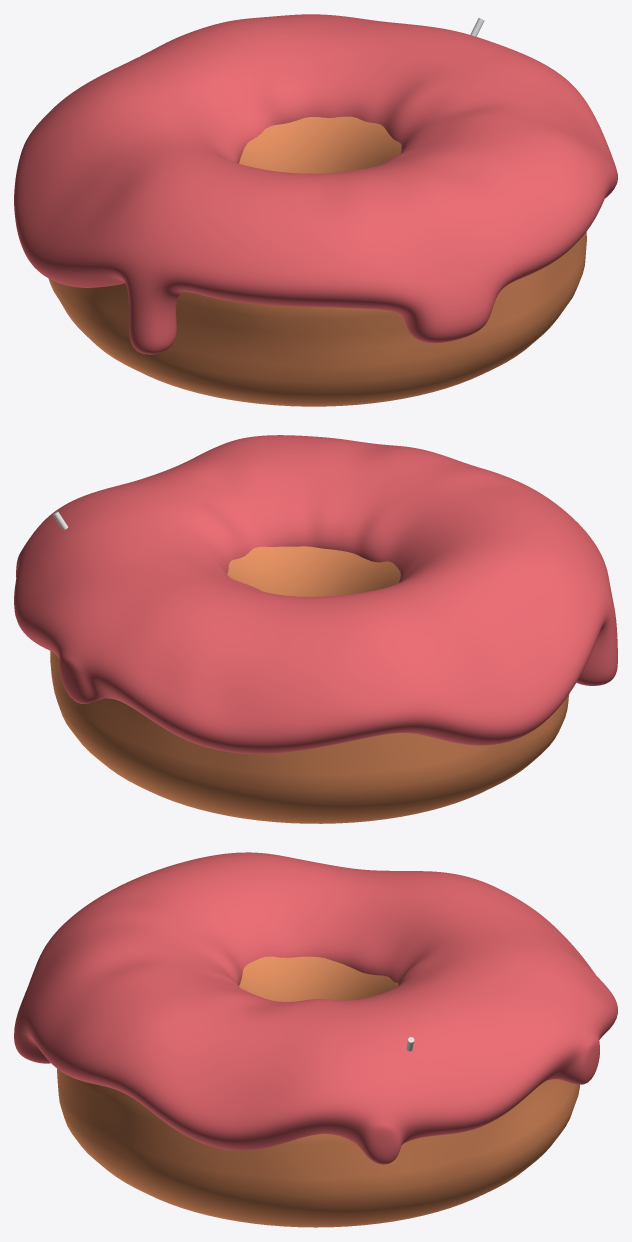
The model's file is Donut2.fbx.
3 views of the same model, one above another, from view 1: azimuth 30°, elevation 25°; view 2: azimuth 150°, elevation 25°; view 3: azimuth 270°, elevation 25° (orthographic). The views are drawn at different scales.
Parts seen in each view (by area): view 1: Icing, Base; view 2: Icing, Base; view 3: Icing, Base.
Boxes of the visible parts, <box> form: Icing: <box>14,14,617,354</box>; Base: <box>48,116,586,406</box>; Icing: <box>14,435,617,753</box>; Base: <box>50,546,569,823</box>; Icing: <box>14,852,617,1164</box>; Base: <box>57,956,579,1227</box>.
Bounding box in the file's own units: 365 × 359 × 142.
